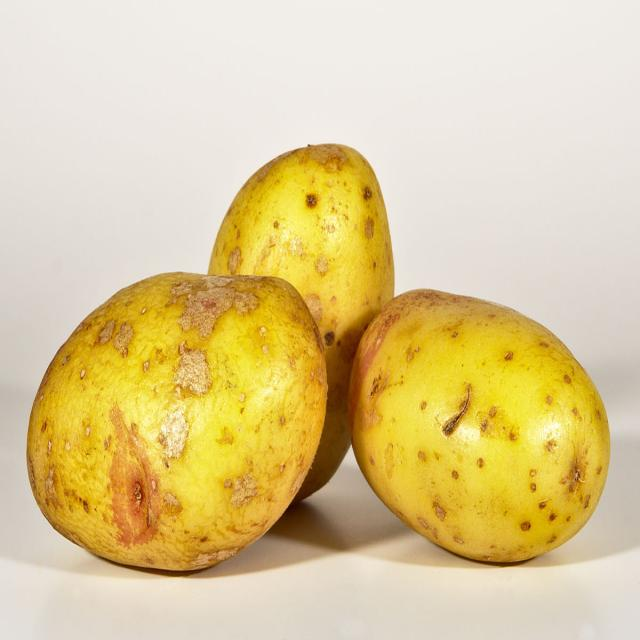potato: (22, 268, 328, 574), (347, 282, 611, 560), (214, 138, 400, 516)
